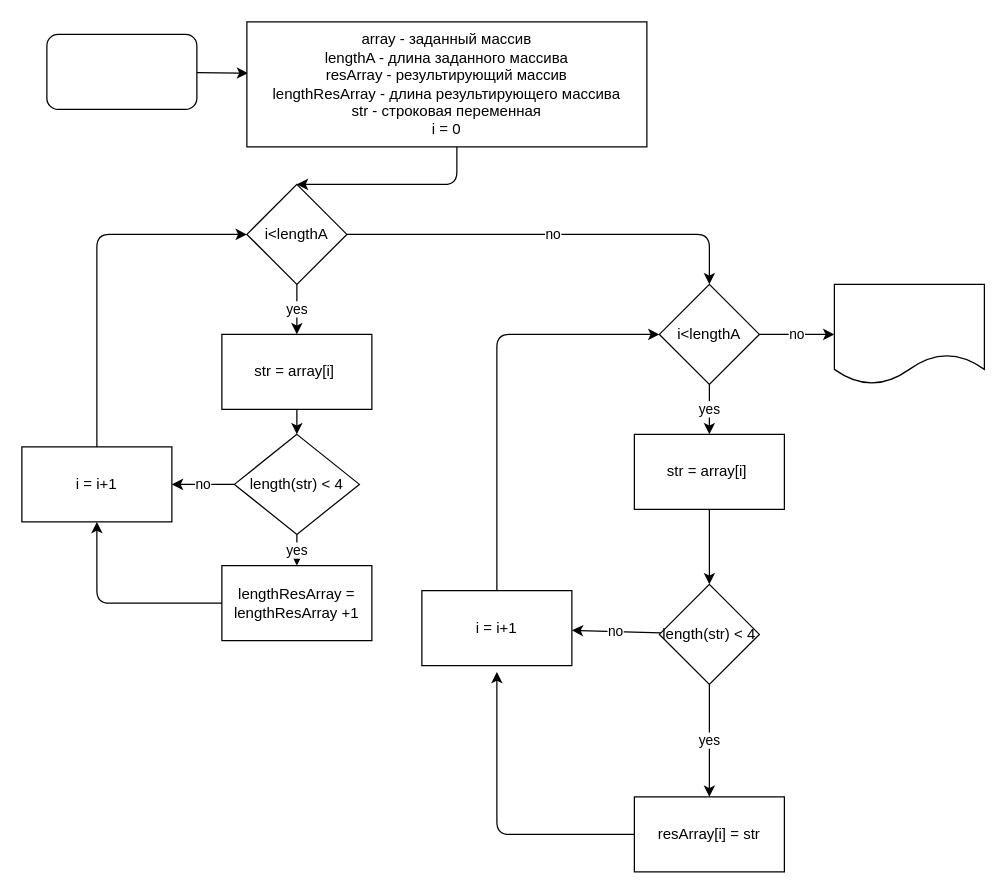
The diagram is 1006 pixels wide and 894 high, and some of its shapes have lost their labels. Here are the shapes that lost their labels. From the top down, the centre of each, then its label:
point (121, 71): start
point (908, 333): input resArray
